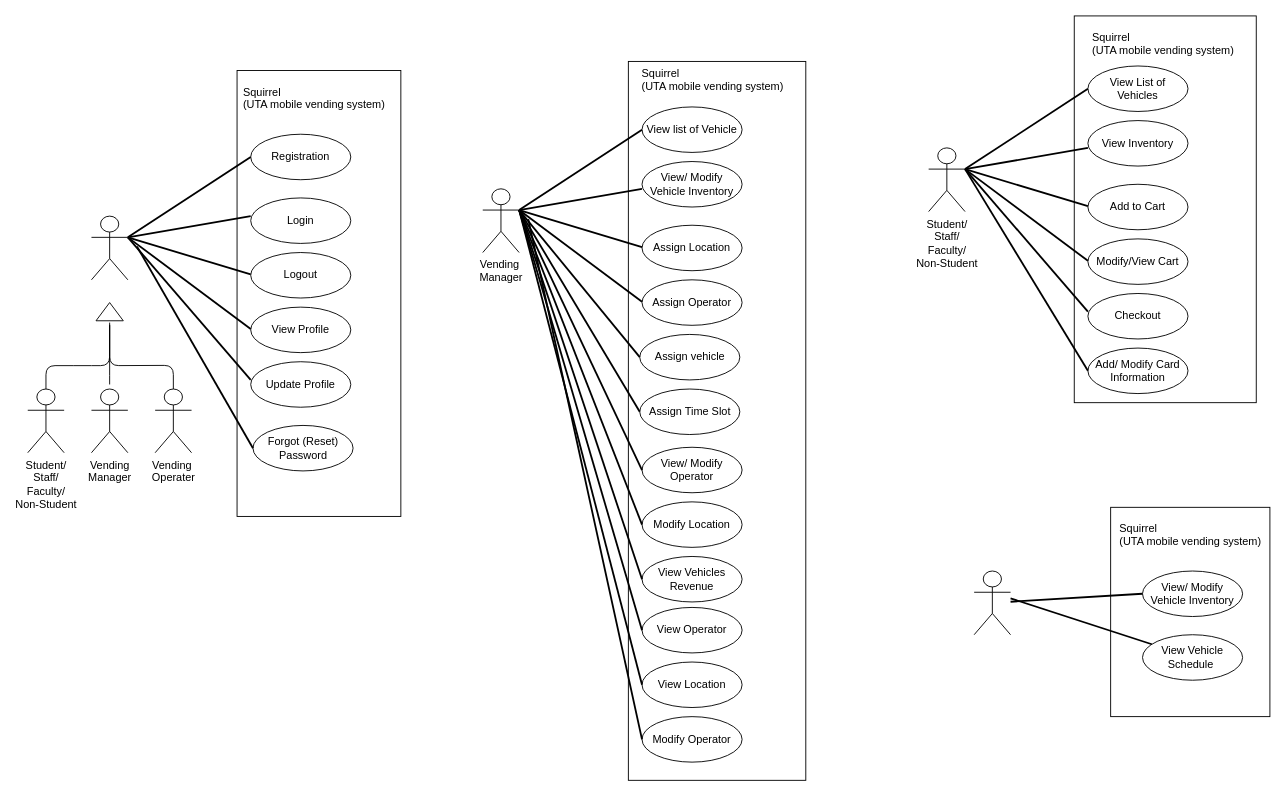
This 1286x796 diagram has some shape labels left out. The shapes that lost their labels are listed below. From the top down, each one's centre as x and y in pixels, then its label:
(109,247): System User
(992,602): Vending Operator
